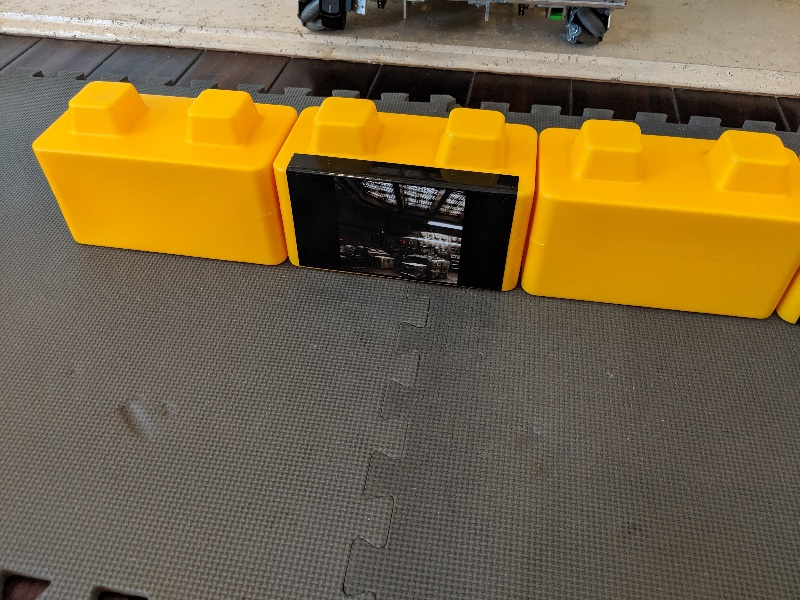Skystone: (275, 141, 524, 293)
